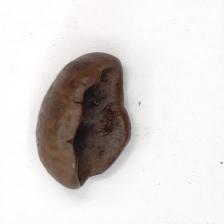NG: (66, 51, 131, 188)
